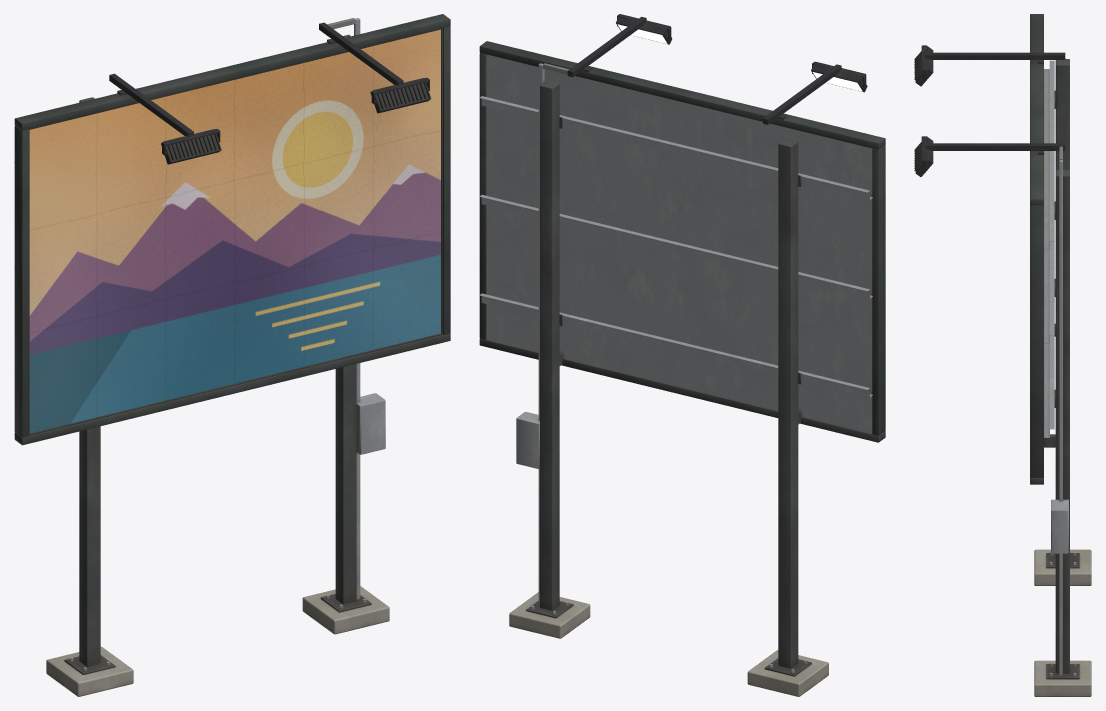
File: billboard.glb
The picture shows the model from 3 angles, left to right: view 1: azimuth 30°, elevation 25°; view 2: azimuth 150°, elevation 25°; view 3: azimuth 270°, elevation 25°; orthographic projection. The views are drawn at different scales.
Visible parts, largest first — view 1: billboard_poster, billboard_body; view 2: billboard_body; view 3: billboard_body.
Part boxes in pixels (box(x1,y1,x2,y2)): billboard_poster: box(29, 29, 440, 433); billboard_body: box(14, 14, 450, 696); billboard_body: box(479, 14, 885, 696); billboard_body: box(914, 14, 1091, 696).
Bounding box in the file's own units: 3.68 × 4.91 × 1.49.
Materials: 3 (2 with a texture image).
